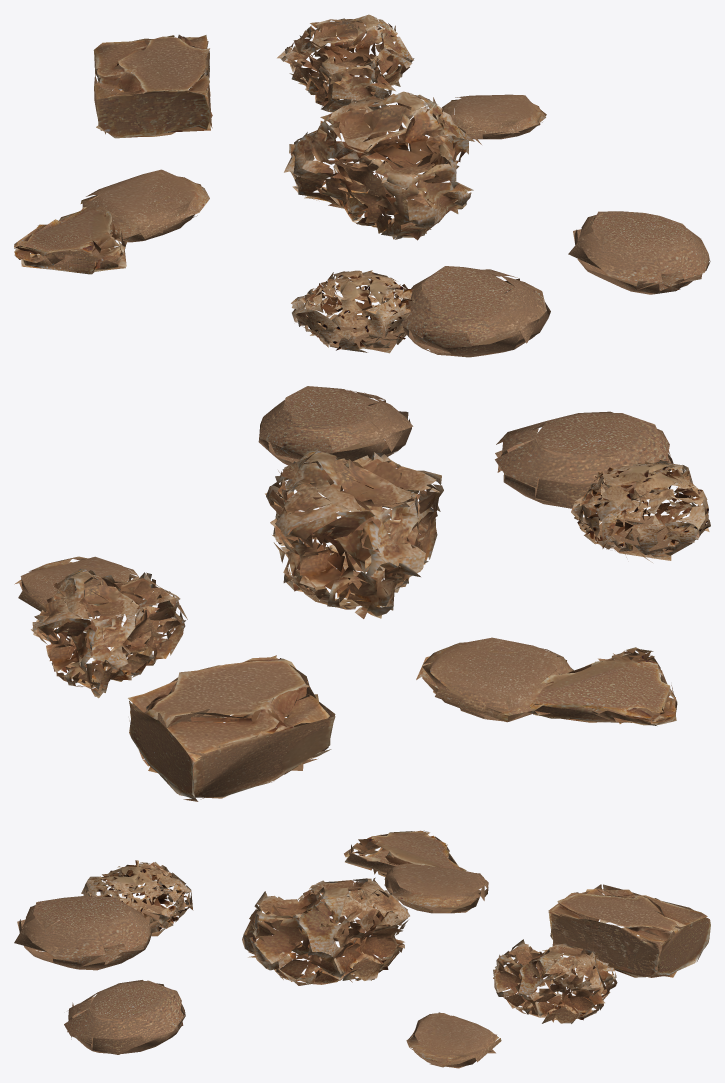
Rendered from desert_pebble_scatter.glb.
3 renders of one model, top to bottom at view 1: azimuth 30°, elevation 25°; view 2: azimuth 150°, elevation 25°; view 3: azimuth 270°, elevation 25°, orthographic. The views are drawn at different scales.
Parts seen in each view (by area): view 1: desert_pebble_scatter; view 2: desert_pebble_scatter; view 3: desert_pebble_scatter.
Part boxes in pixels (x1,y1,x2,y2): desert_pebble_scatter: (14, 14, 710, 357); desert_pebble_scatter: (14, 386, 710, 801); desert_pebble_scatter: (14, 830, 710, 1068).
Bounding box in the file's own units: 5.26 × 1.18 × 6.67.
6 materials, 6 textured.
